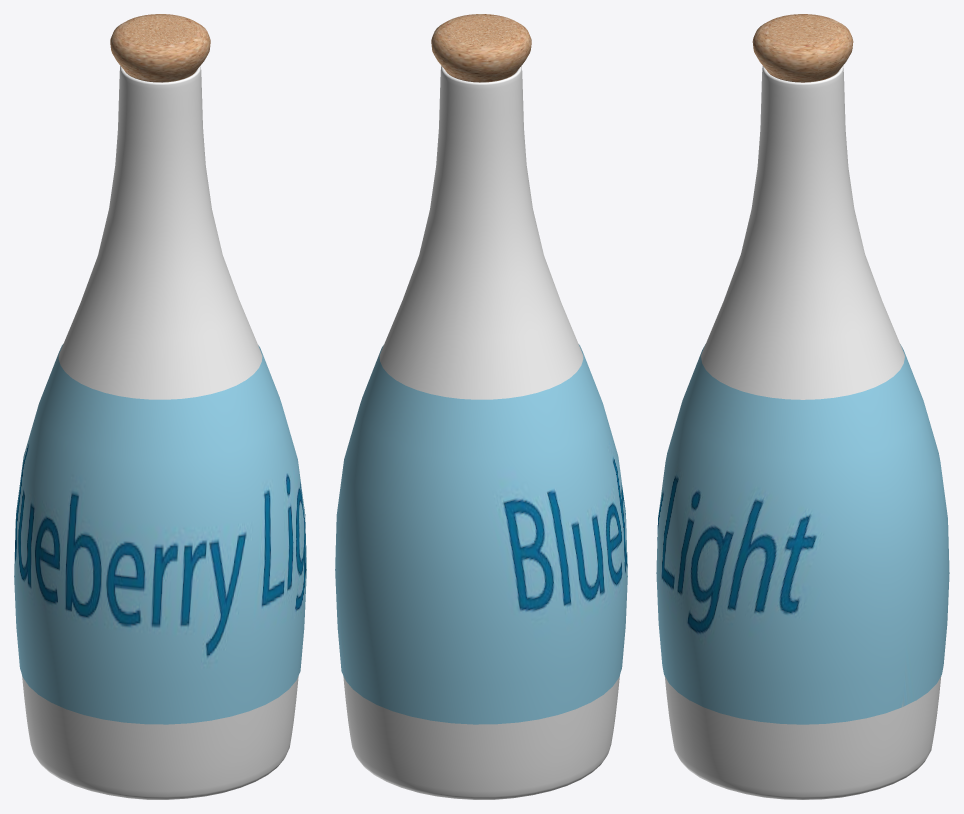
Rendered from Blueberry.fbx.
The picture shows the model from 3 angles, left to right: view 1: azimuth 30°, elevation 25°; view 2: azimuth 150°, elevation 25°; view 3: azimuth 270°, elevation 25°; orthographic projection.
Parts seen in each view (by area): view 1: Label, Blueberry, Cork; view 2: Label, Blueberry, Cork; view 3: Label, Blueberry, Cork.
Boxes of the visible parts, x1,y1,x2,y2 form: Label: [14, 344, 306, 724]; Blueberry: [22, 66, 298, 799]; Cork: [110, 14, 210, 82]; Label: [335, 344, 627, 724]; Blueberry: [343, 66, 619, 799]; Cork: [431, 14, 531, 82]; Label: [656, 344, 949, 724]; Blueberry: [664, 66, 941, 799]; Cork: [752, 14, 853, 82].
Size of the model in its own units: 0.3109 by 0.8436 by 0.3106.
